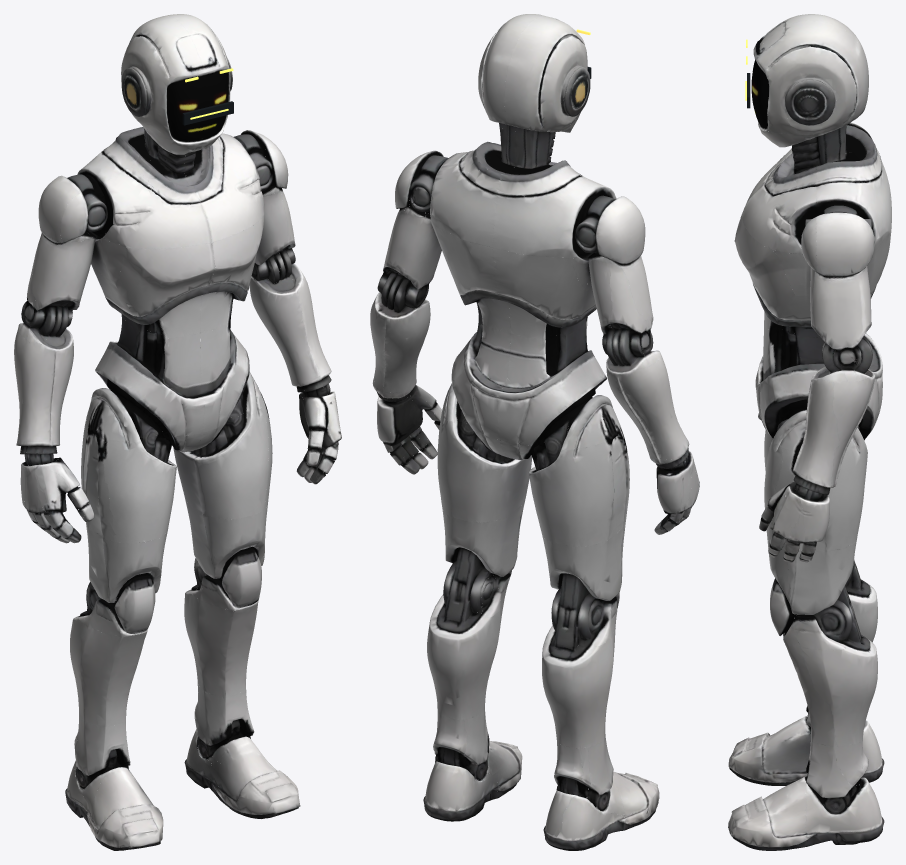
File: robot-voice-assistant.glb
The picture shows the model from 3 angles, left to right: view 1: azimuth 30°, elevation 25°; view 2: azimuth 150°, elevation 25°; view 3: azimuth 270°, elevation 25°; orthographic projection.
Visible parts, largest first — view 1: Robot_body, Robot_head, Robot_right_upper_arm, Robot_right_forearm, Robot_left_forearm, Robot_right_hand, Robot_left_hand, Robot_left_upper_arm, FaceMouthMask; view 2: Robot_body, Robot_head, Robot_right_upper_arm, Robot_right_forearm, Robot_left_upper_arm, Robot_left_forearm, Robot_left_hand, Robot_right_hand; view 3: Robot_body, Robot_head, Robot_left_upper_arm, Robot_left_forearm, Robot_left_hand.
Boxes of the visible parts, x1,y1,x2,y2 form: Robot_body: (38, 126, 300, 850); Robot_head: (121, 14, 232, 141); Robot_right_upper_arm: (18, 229, 126, 343); Robot_right_forearm: (14, 328, 73, 454); Robot_left_forearm: (249, 276, 331, 388); Robot_right_hand: (20, 446, 94, 543); Robot_left_hand: (291, 381, 341, 484); Robot_left_upper_arm: (251, 188, 303, 283); FaceMouthMask: (182, 101, 233, 125); Robot_body: (395, 115, 659, 850); Robot_head: (478, 14, 590, 135); Robot_right_upper_arm: (571, 250, 661, 369); Robot_right_forearm: (606, 355, 689, 459); Robot_left_upper_arm: (373, 209, 441, 311); Robot_left_forearm: (370, 299, 430, 392); Robot_left_hand: (373, 385, 442, 474); Robot_right_hand: (649, 451, 699, 534); Robot_body: (728, 121, 891, 850); Robot_head: (751, 14, 868, 136); Robot_left_upper_arm: (774, 250, 872, 382); Robot_left_forearm: (793, 364, 874, 488); Robot_left_hand: (759, 480, 837, 562).
Size of the model in its own units: 0.4108 by 1 by 0.189.
4 materials, 1 textured.
